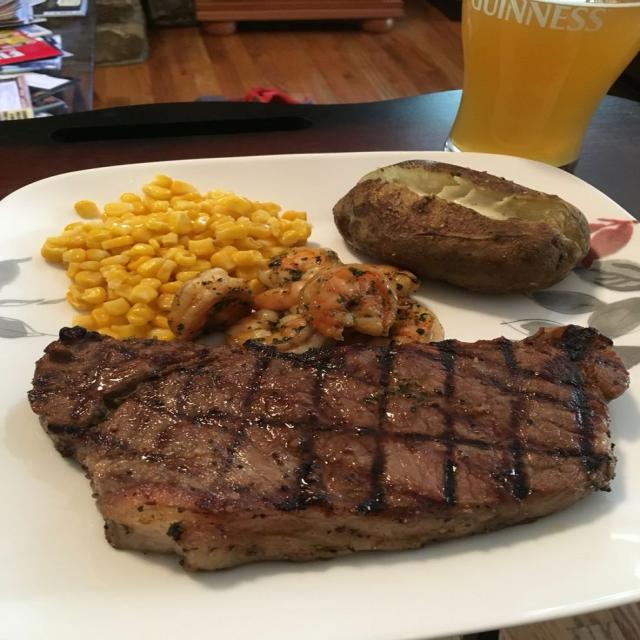beef steak: (29, 326, 628, 570)
boiled potato: (334, 160, 589, 292)
corn: (41, 175, 310, 339), (74, 200, 100, 219)
